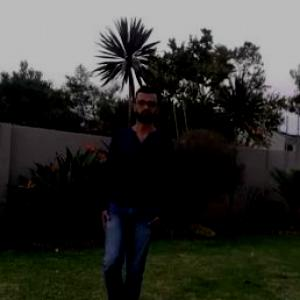follow: (99, 102, 160, 299)
